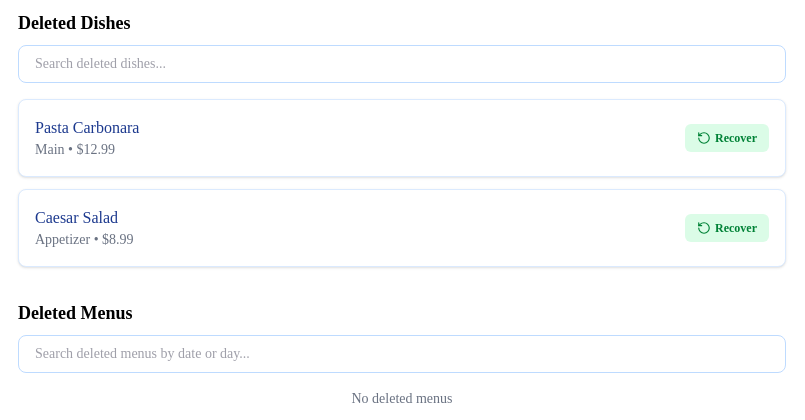
Test: TrashBin › Search Functionality › filters dishes by name when searching
Expected: the text "Pasta Carbonara" is shown, [35, 116, 139, 140]
Type "pasta" into the field with placeholder "Search deleted dishes..." at (402, 64), box [18, 45, 786, 83]
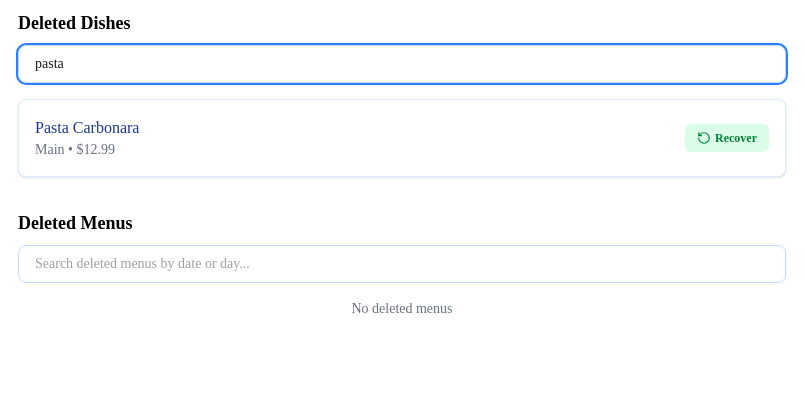
Expected: the text "Pasta Carbonara" is shown, [35, 116, 139, 140]
Expected: the text "Caesar Salad" is gone
